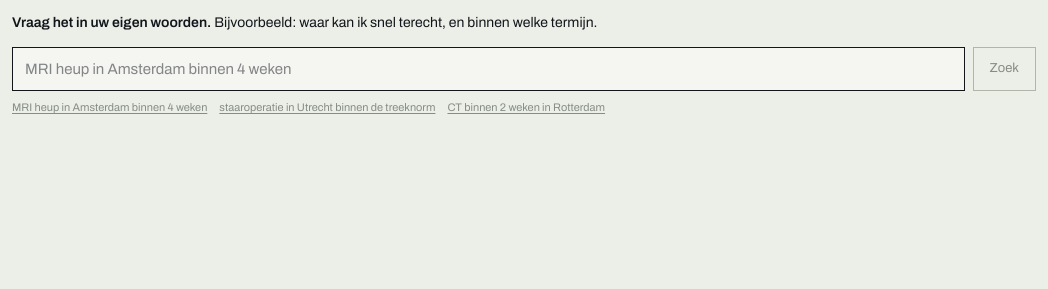
Test case: Assistant › passes on a question it could not place, without guessing
Type "MRI heup Amsterdam" into the field labelled "Vraag het in uw eigen woorden" at (488, 69), box [12, 47, 964, 91]
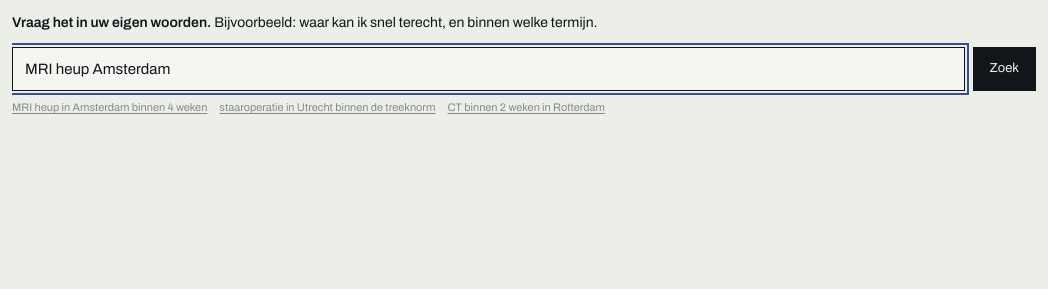
Click the button "Zoek" at (1004, 69), box [972, 47, 1036, 91]
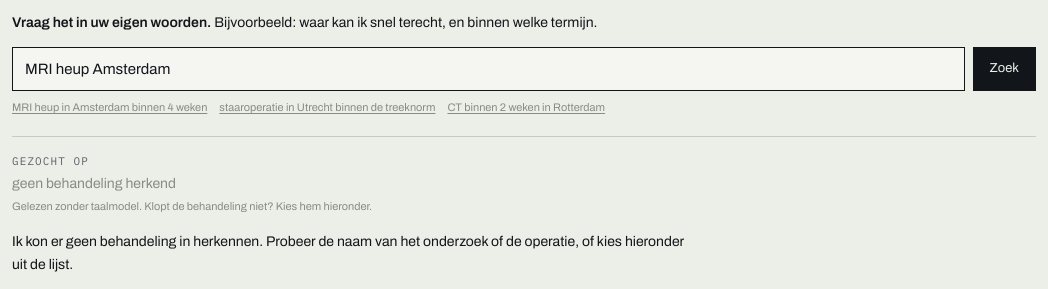
Now the text "geen behandeling herkend" is shown, box [12, 176, 176, 191]
